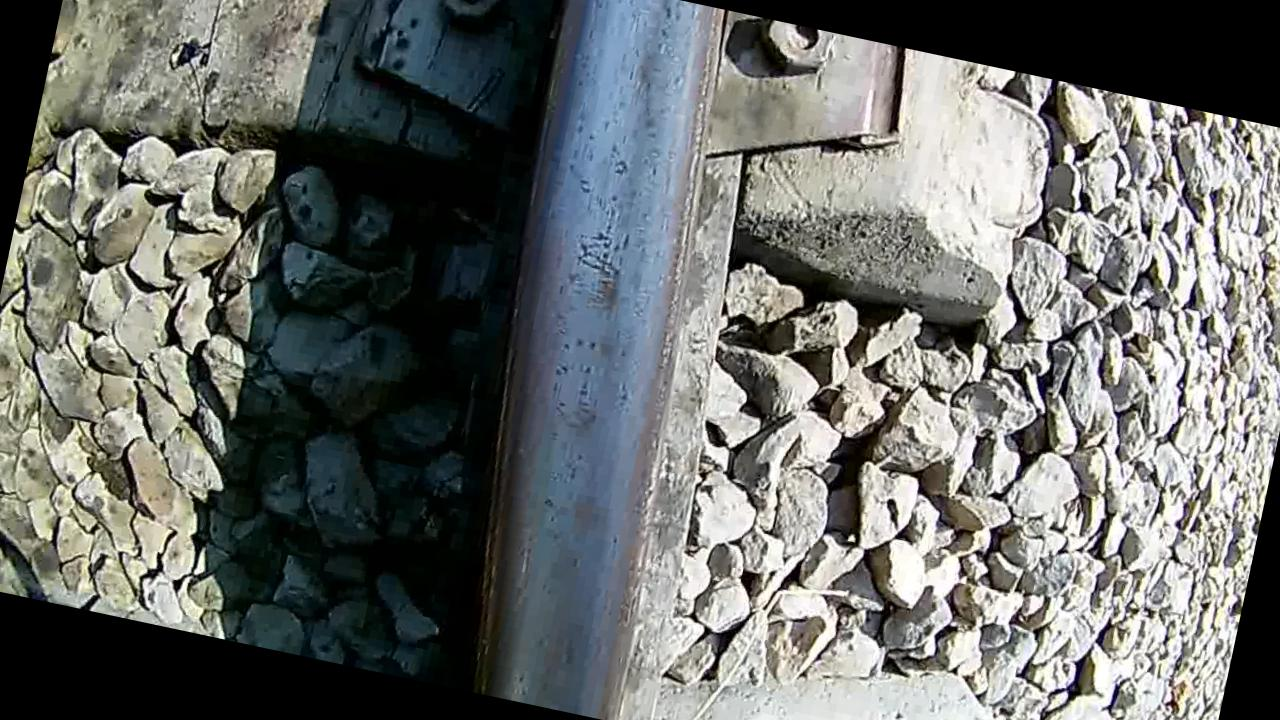crack: (423, 0, 742, 717)
